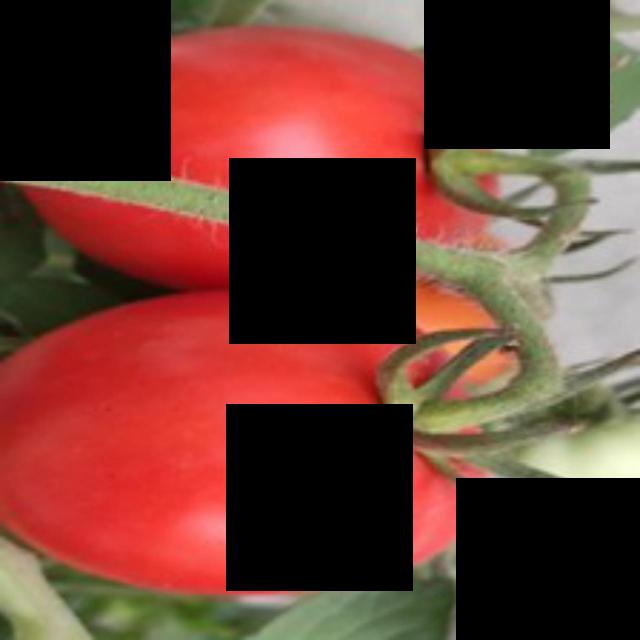tomato: (1, 276, 477, 585)
